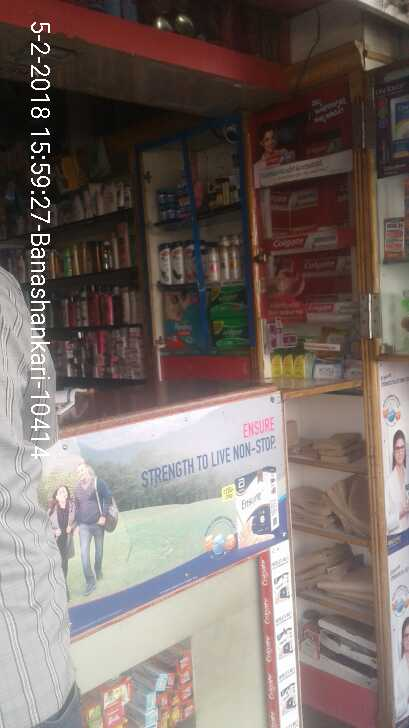beauty: (204, 284, 248, 316), (158, 237, 171, 287), (170, 238, 183, 284), (227, 243, 242, 280), (182, 240, 195, 281), (205, 247, 220, 282), (216, 246, 227, 282)
pharmacy: (161, 290, 202, 348), (208, 319, 257, 346), (165, 187, 178, 205)
